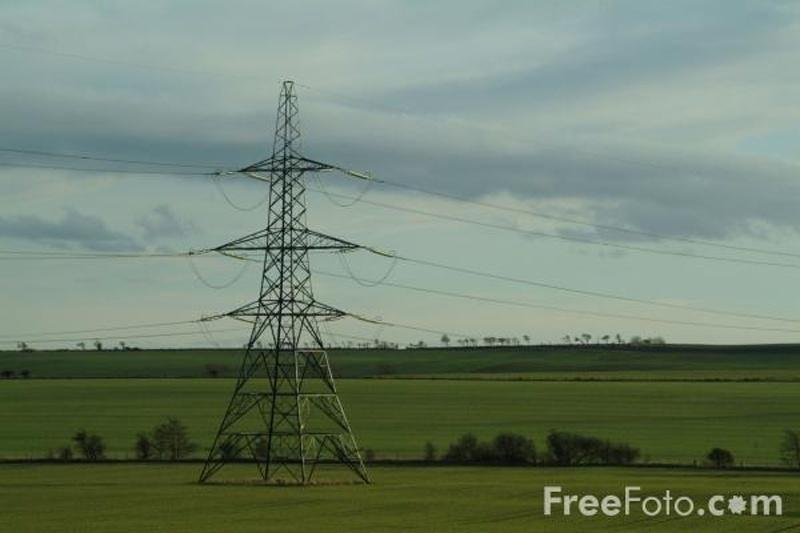power_tower: (200, 75, 372, 482)
